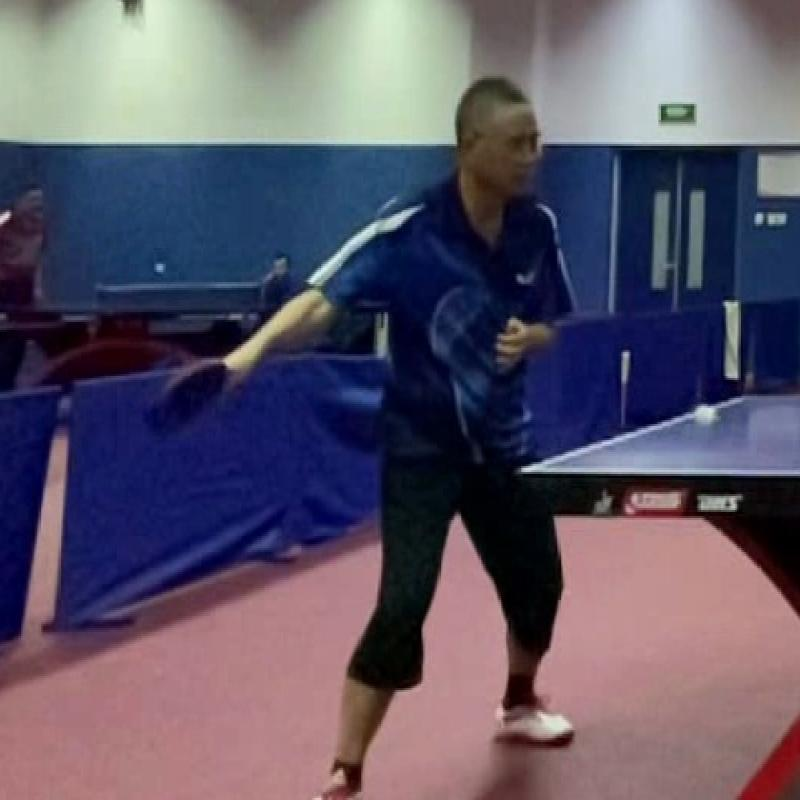bats: (136, 342, 242, 446)
